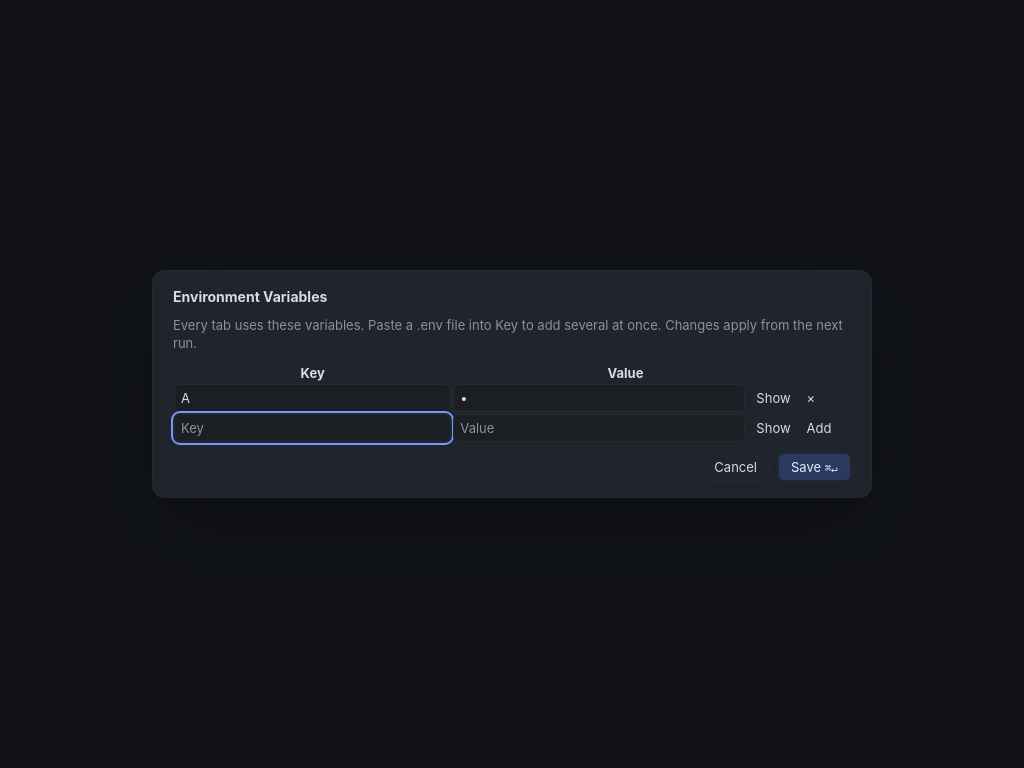
Environment Variables sheet (spec §12.1) › invalid and duplicate keys show errors and nothing is saved
The image size is (1024, 768).
Type "A" into the field named "New key" at (313,428), box x1=174 y1=414 x2=451 y2=442
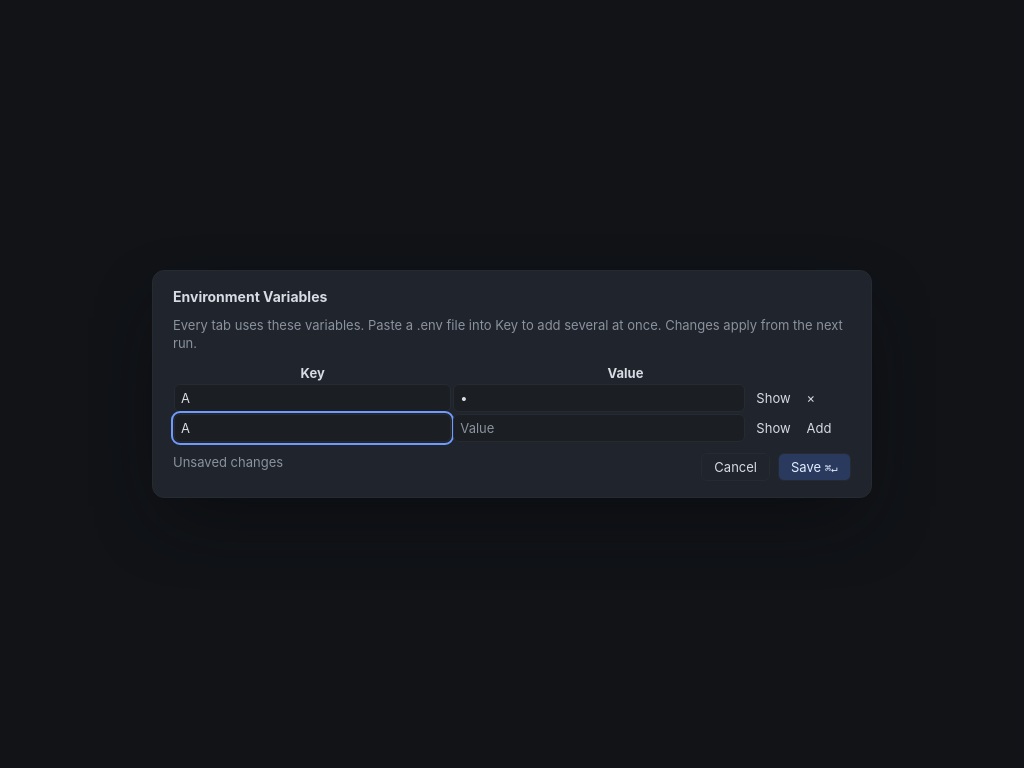
Click the button "Save ⌘↵" at (814,467), box x1=778 y1=453 x2=851 y2=481
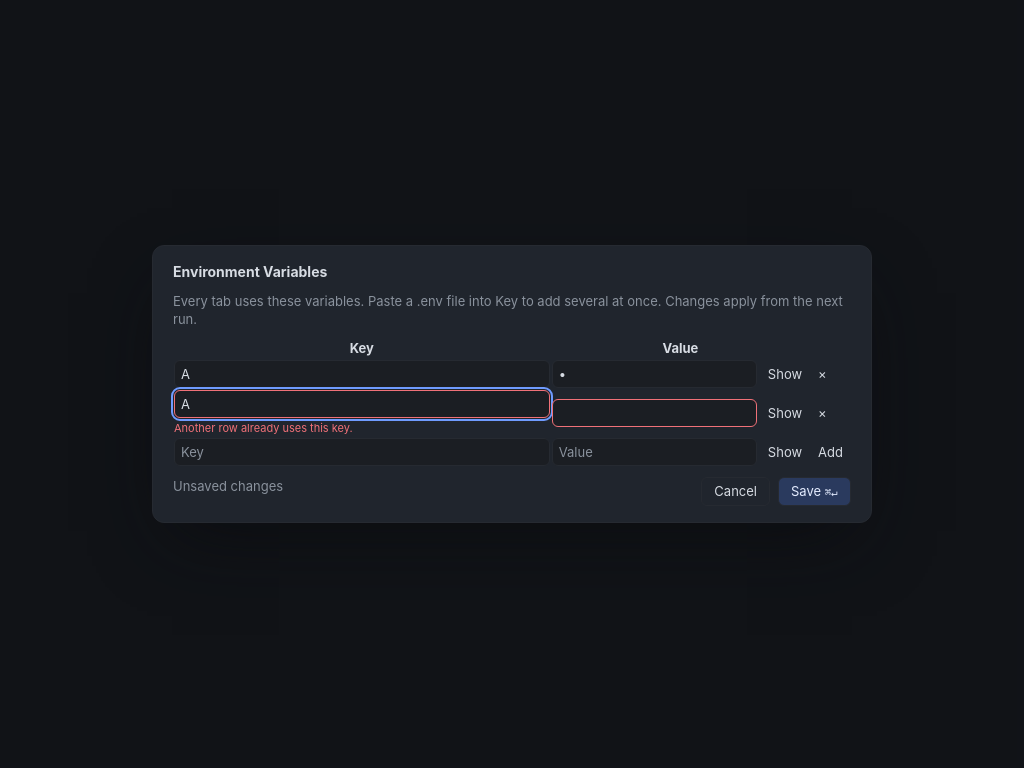
Expected: the text "Another row already uses this key." is shown, x1=174 y1=421 x2=353 y2=435
Replace the text in the field named "Key, row 2" with "1BAD" at (362,404), box x1=174 y1=390 x2=550 y2=418
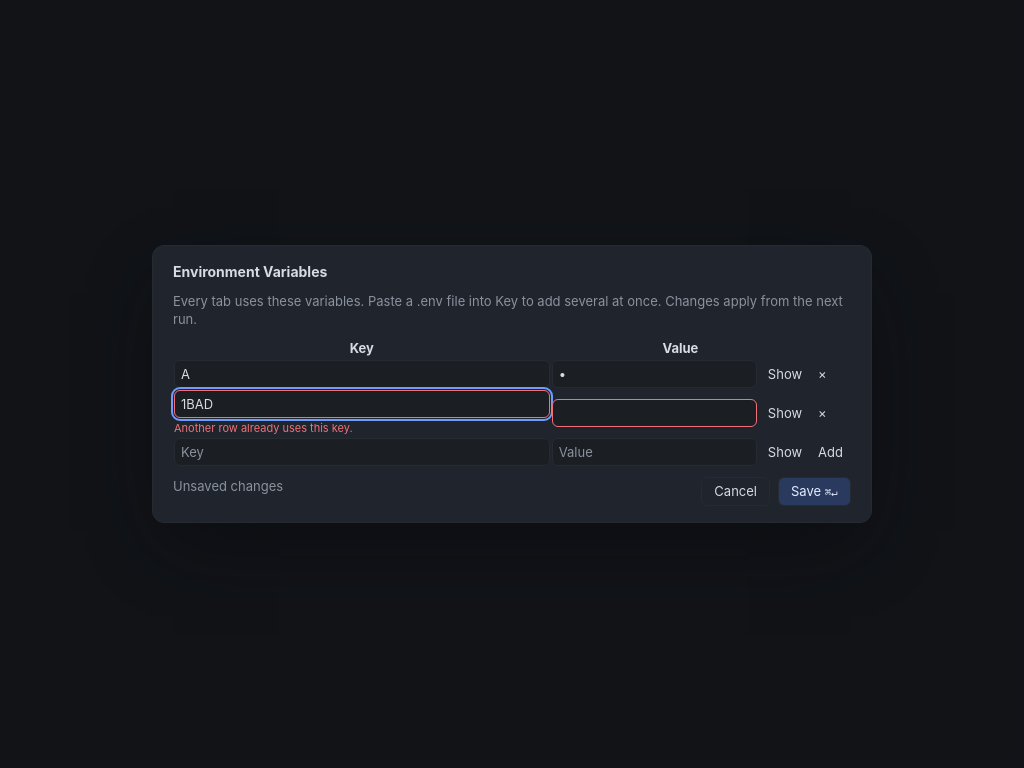
Click the button "Save ⌘↵" at (814,492), box x1=778 y1=478 x2=851 y2=506
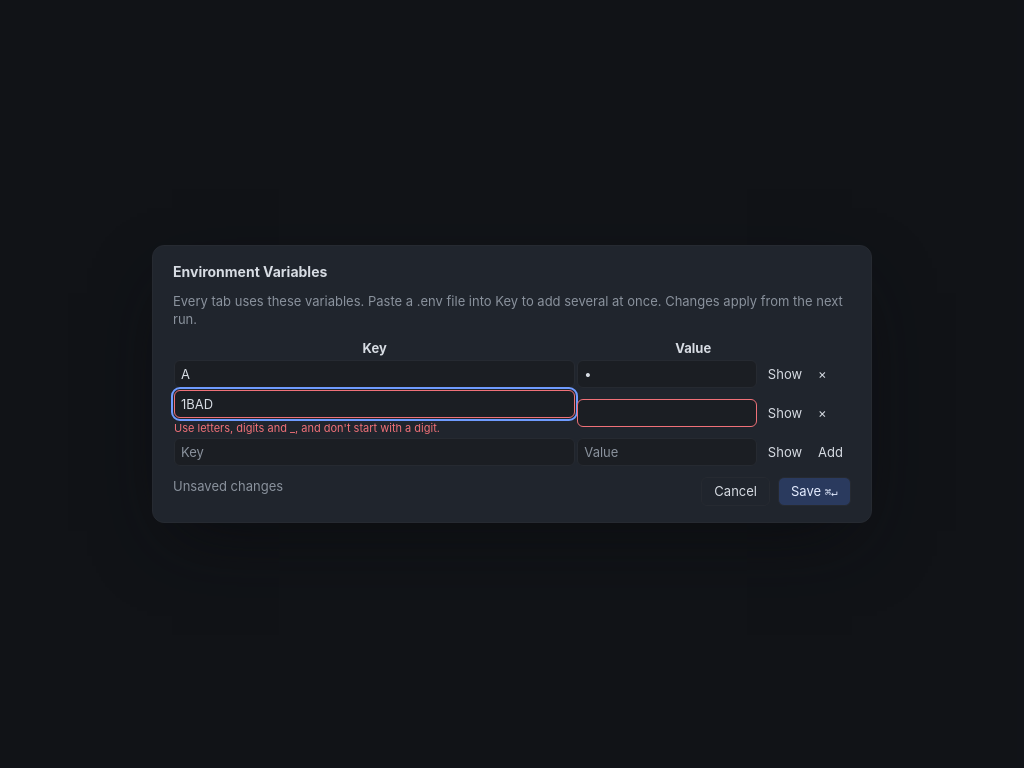
Expected: the text "Use letters, digits and _, and don't start with a digit." is shown, x1=174 y1=421 x2=440 y2=435
